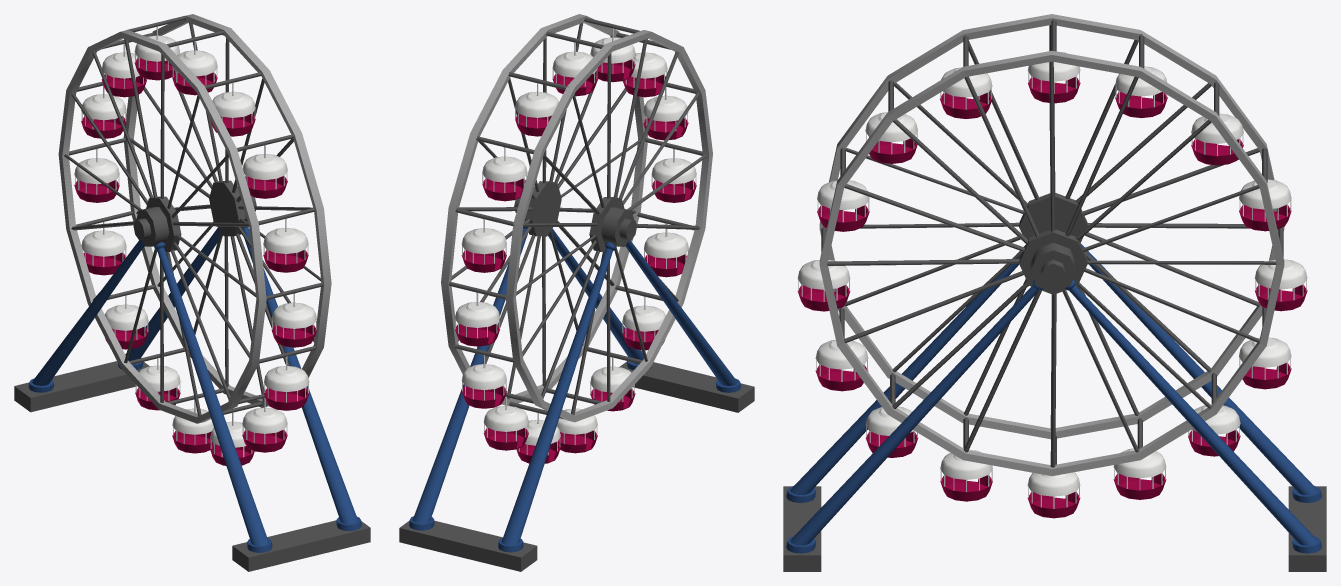
Rendered from ferris-wheel.glb.
The picture shows the model from 3 angles, left to right: view 1: azimuth 30°, elevation 25°; view 2: azimuth 150°, elevation 25°; view 3: azimuth 270°, elevation 25°; orthographic projection. The views are drawn at different scales.
Visible parts, largest first — view 1: SM_FerrisWheel:SM_FerrisWheel1; view 2: SM_FerrisWheel:SM_FerrisWheel1; view 3: SM_FerrisWheel:SM_FerrisWheel1.
Part boxes in pixels (x1=…): SM_FerrisWheel:SM_FerrisWheel1: x1=14, y1=14, x2=370, y2=571; SM_FerrisWheel:SM_FerrisWheel1: x1=399, y1=14, x2=754, y2=571; SM_FerrisWheel:SM_FerrisWheel1: x1=783, y1=14, x2=1326, y2=571.
Size of the model in its own units: 14.97 by 50.92 by 49.75.
